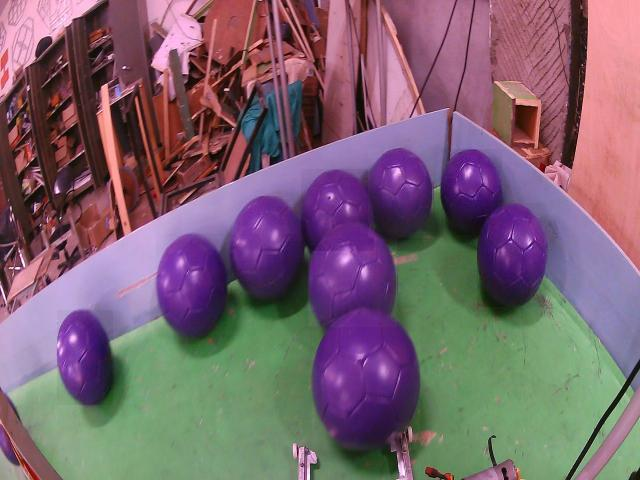jambhalya: (313, 308, 420, 450), (308, 223, 397, 327), (230, 196, 305, 299), (156, 234, 226, 338), (477, 203, 547, 307), (301, 170, 374, 251), (368, 149, 433, 238), (57, 310, 113, 405), (442, 150, 502, 235)
